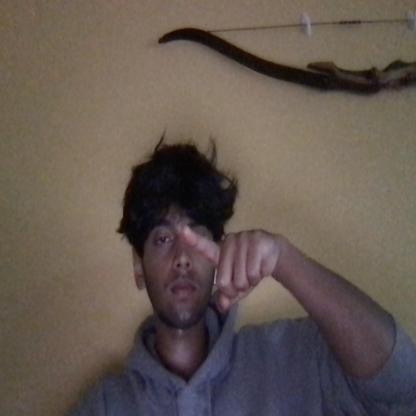finger_point: (170, 205, 204, 257)
